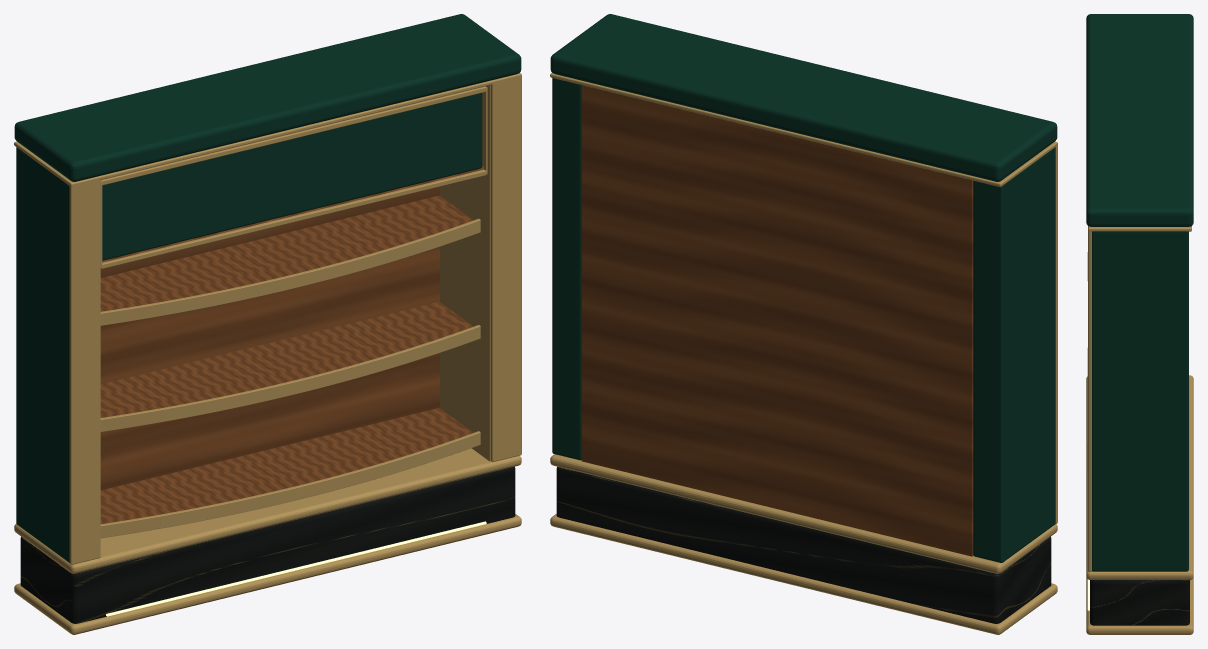
The model's file is edited.glb.
3 views of the same model, side by side, from view 1: azimuth 30°, elevation 25°; view 2: azimuth 150°, elevation 25°; view 3: azimuth 270°, elevation 25° (orthographic). The views are drawn at different scales.
Visible parts, largest first — view 1: cabinet_back, cabinet_crown, brand_header_panel, cabinet_stone_base, cabinet_left_pillar, shelf_3, shelf_2, shelf_1, trim_left_front, trim_right_front, trim_right_inner, trim_base_top (+9 smaller); view 2: cabinet_back, cabinet_crown, cabinet_left_pillar, cabinet_stone_base, cabinet_right_pillar, trim_base_top, trim_base_plinth, trim_crown_lip, trim_left_front; view 3: cabinet_right_pillar, cabinet_crown, cabinet_stone_base, trim_base_top, trim_base_plinth, trim_right_front, trim_crown_lip.
Part boxes in pixels (x1,y1,x2,y2): cabinet_back: [100, 186, 439, 490]; cabinet_crown: [14, 14, 521, 181]; brand_header_panel: [102, 93, 482, 260]; cabinet_stone_base: [20, 466, 515, 623]; cabinet_left_pillar: [16, 147, 69, 562]; shelf_3: [100, 195, 473, 311]; shelf_2: [100, 301, 473, 417]; shelf_1: [100, 408, 473, 524]; trim_left_front: [69, 180, 100, 564]; trim_right_front: [490, 77, 521, 461]; trim_right_inner: [440, 85, 490, 461]; trim_base_top: [14, 448, 521, 573]; cabinet_back: [581, 85, 973, 556]; cabinet_crown: [550, 14, 1057, 181]; cabinet_left_pillar: [973, 147, 1055, 562]; cabinet_stone_base: [556, 466, 1051, 623]; cabinet_right_pillar: [552, 78, 581, 460]; trim_base_top: [550, 454, 1057, 573]; trim_base_plinth: [550, 514, 1057, 634]; trim_crown_lip: [550, 73, 1057, 187]; trim_left_front: [1055, 145, 1057, 524]; cabinet_right_pillar: [1092, 231, 1188, 571]; cabinet_crown: [1086, 14, 1193, 226]; cabinet_stone_base: [1090, 580, 1189, 625]; trim_base_top: [1086, 375, 1193, 579]; trim_base_plinth: [1086, 577, 1193, 634]; trim_right_front: [1088, 231, 1091, 571]; trim_crown_lip: [1088, 226, 1191, 231].
Size of the model in its own units: 2.4 by 2.4 by 0.55.
5 materials, 2 textured.
